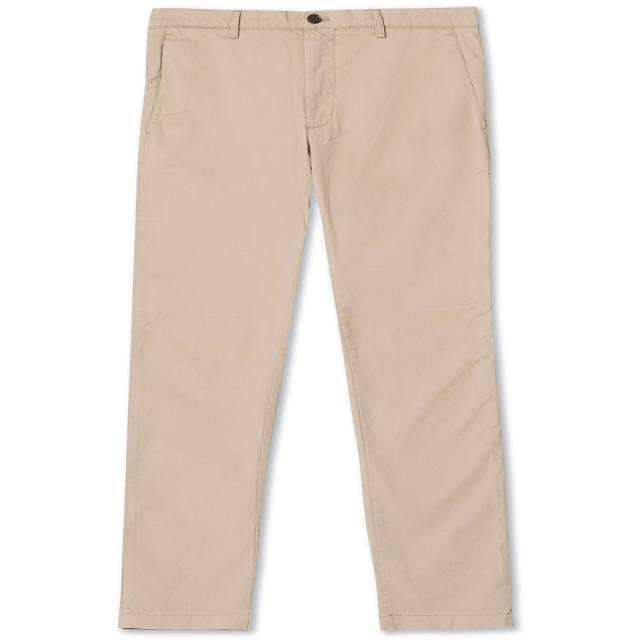long-pants: (119, 0, 526, 632)
